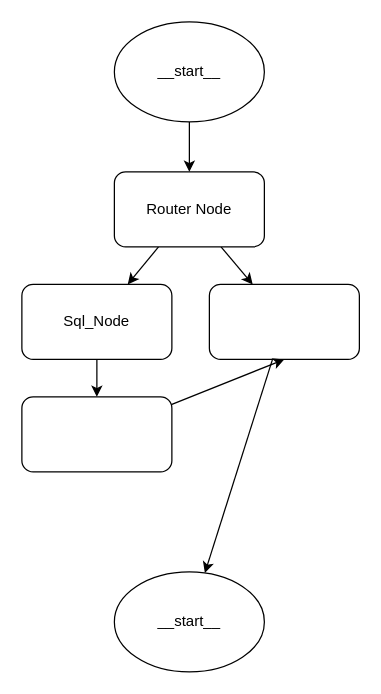
The diagram is 381 pixels wide and 694 high, and some of its shapes have lost their labels. The box of each missing label's shape, as (x1, y1, x2, y2) in pixels:
Call_Node: (208, 283, 359, 359)
Tool_Node: (21, 396, 172, 472)
